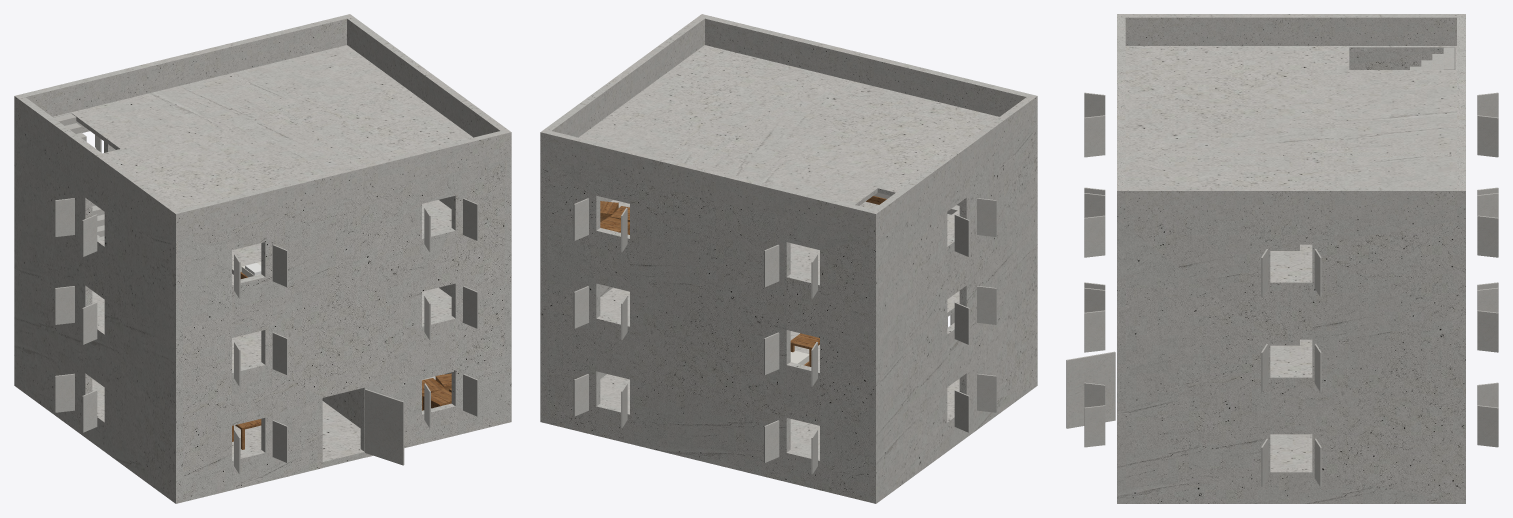
File: apartment_multifloor.glb
The picture shows the model from 3 angles, left to right: view 1: azimuth 30°, elevation 25°; view 2: azimuth 150°, elevation 25°; view 3: azimuth 270°, elevation 25°; orthographic projection. The views are drawn at different scales.
Visible parts, largest first — view 1: ApartmentMultifloor; view 2: ApartmentMultifloor; view 3: ApartmentMultifloor.
Boxes of the visible parts, bbox=[...] form: ApartmentMultifloor: bbox=[14, 14, 511, 503]; ApartmentMultifloor: bbox=[540, 14, 1037, 503]; ApartmentMultifloor: bbox=[1066, 14, 1498, 503].
Bounding box in the file's own units: 13.88 × 9.9 × 12.39.
Materials: 4 (2 with a texture image).
